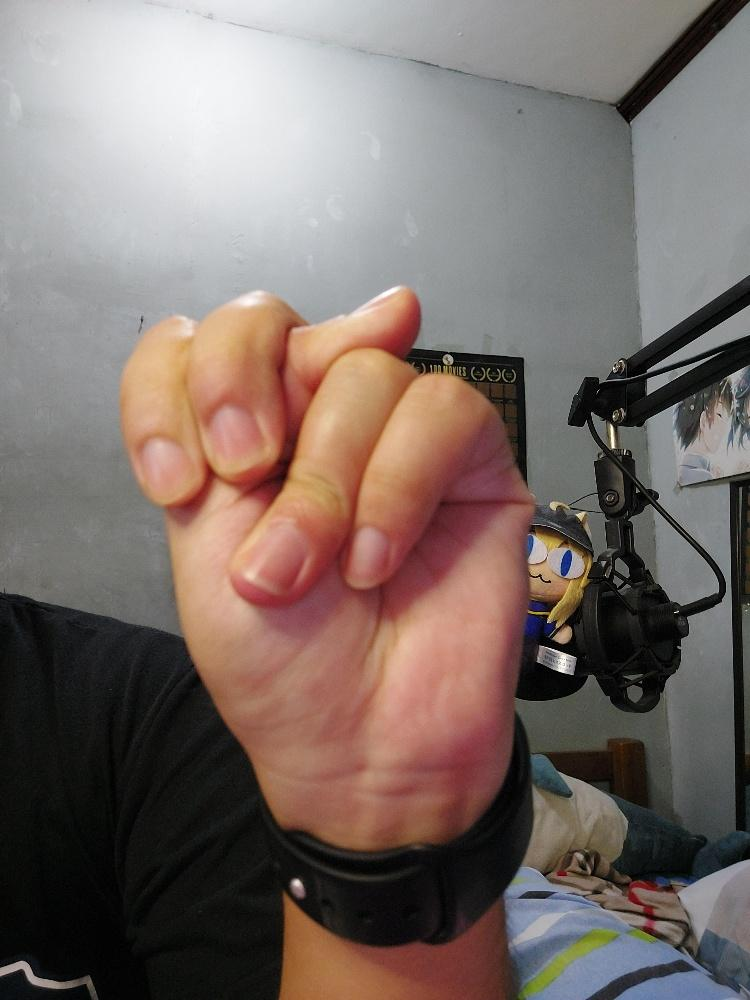n: (122, 279, 532, 764)
